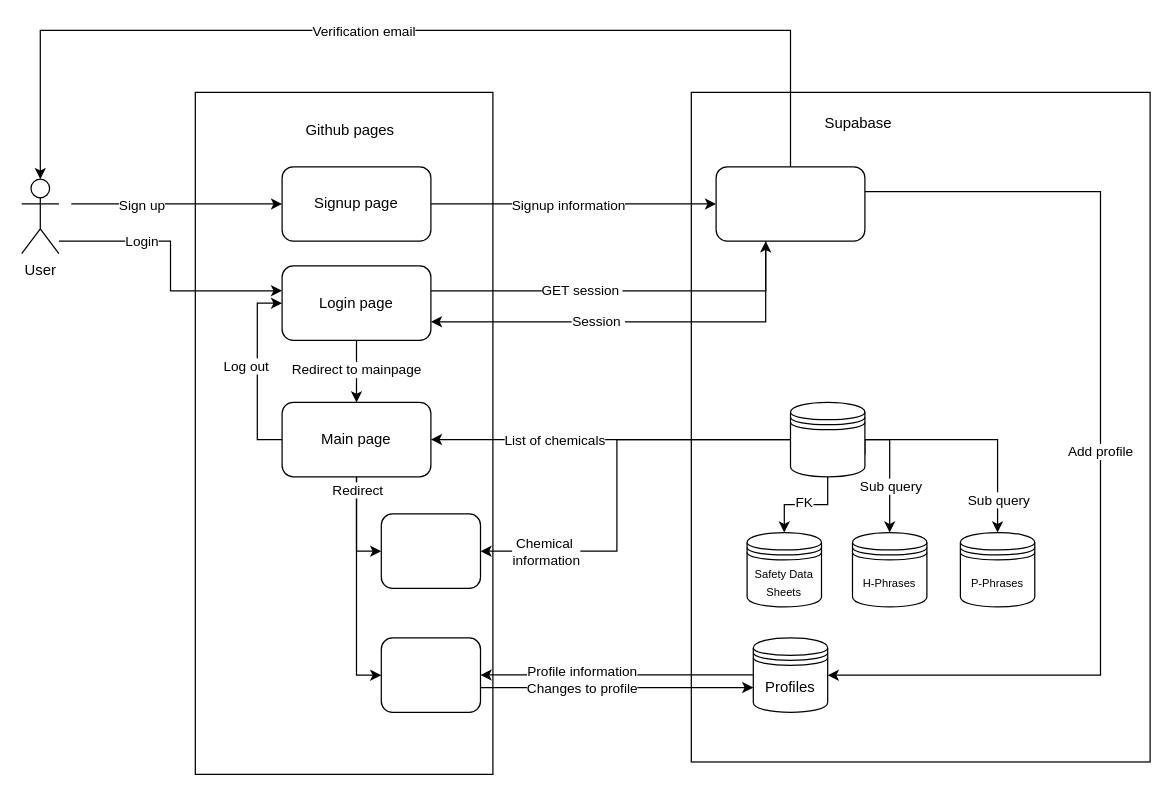
Image size: 1172x796. Some labels were removed from this diagram. Each missing label, with the centre of its shape:
"Auth system" belongs at (x=790, y=203).
"Chemical card" belongs at (x=430, y=550).
"Chemicals" belongs at (x=827, y=439).
"Profile page" belongs at (x=430, y=674).
